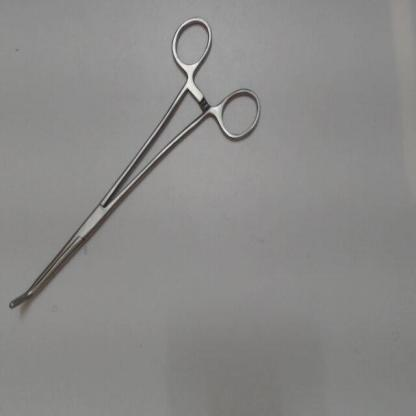Lahey Forceps: (3, 9, 266, 319)
